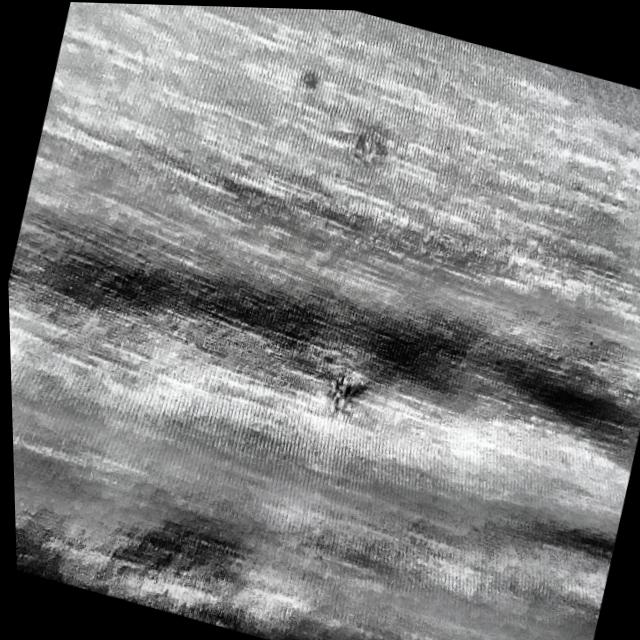Hole: (320, 303, 390, 359)
